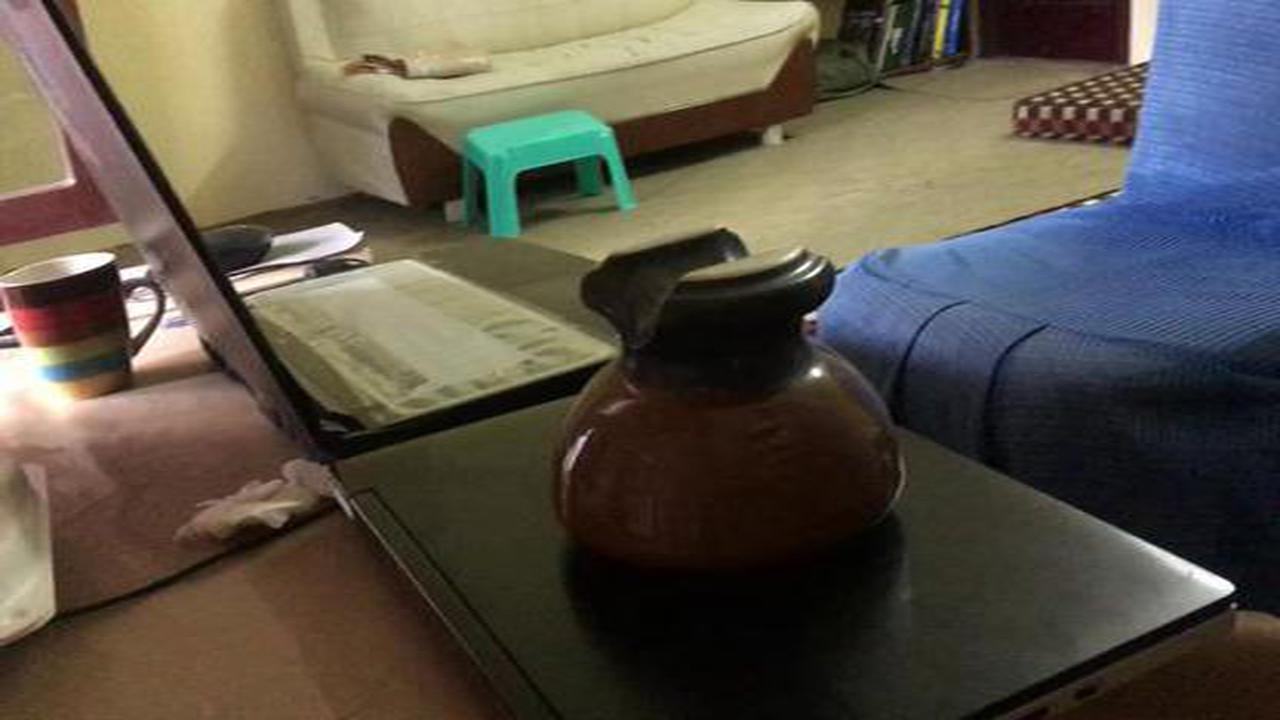insulator_pin: (533, 222, 936, 613)
